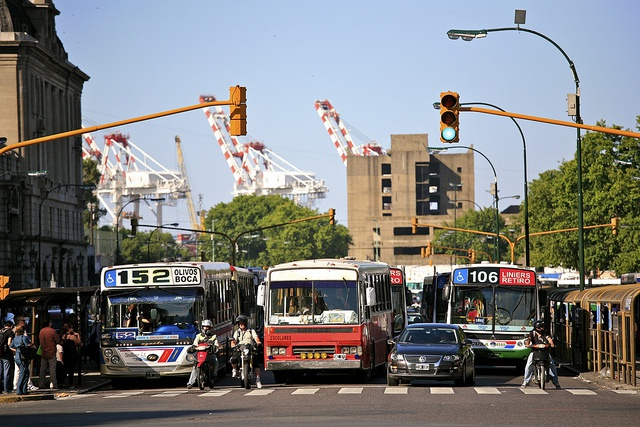non-vehicle: (186, 342, 215, 392), (229, 337, 257, 388), (525, 343, 554, 389)
